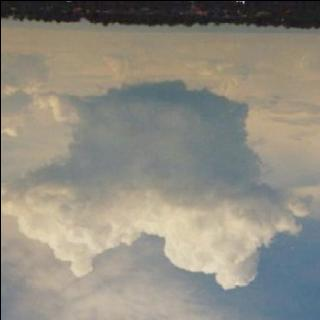Cirrostratus: (0, 59, 320, 298)
